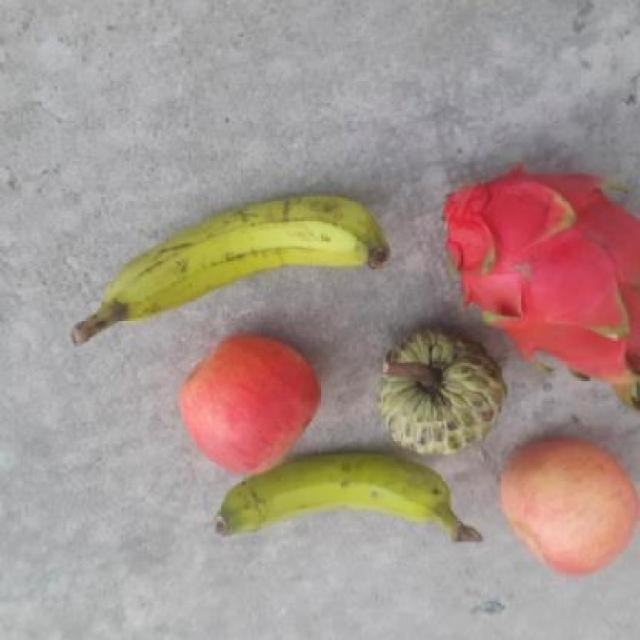apple: (178, 335, 320, 477), (497, 438, 640, 576)
banana: (68, 190, 392, 348), (213, 452, 489, 546)
dragon fruit: (441, 171, 640, 380)
sugar apple: (378, 328, 507, 455)
